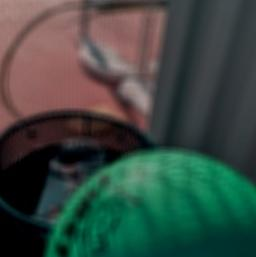algae: (43, 152, 256, 257)
